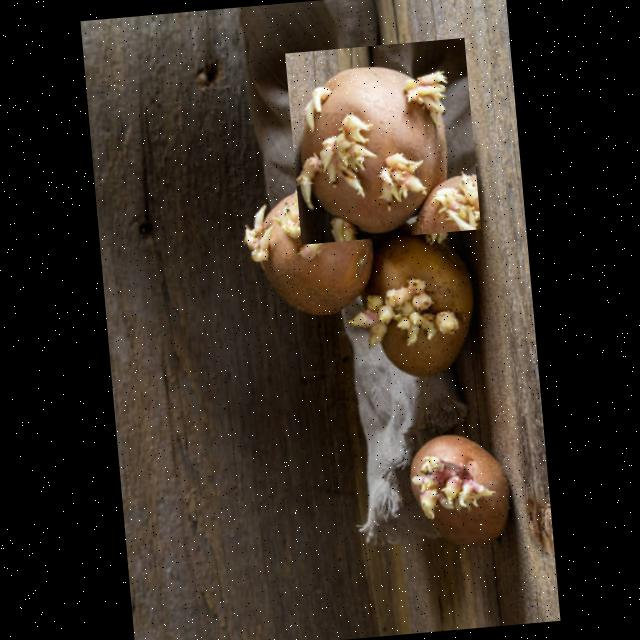Sprouted potato: (284, 36, 480, 244), (342, 214, 488, 388), (233, 170, 380, 324), (378, 414, 516, 564)
